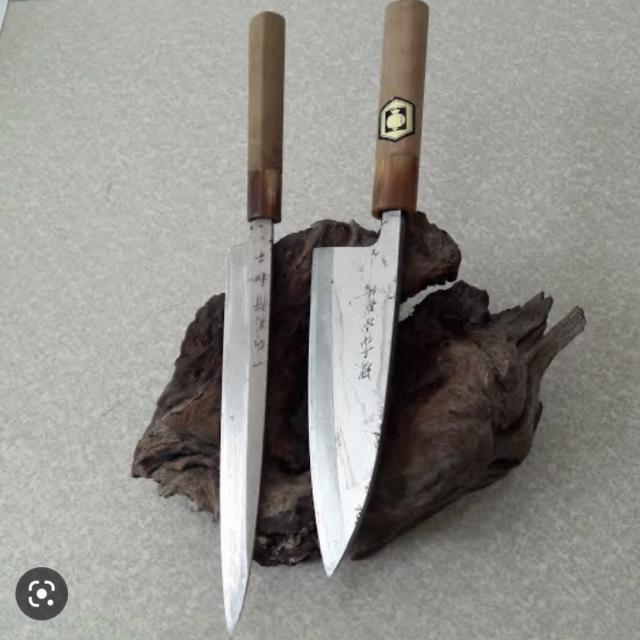Knife: (208, 0, 458, 640)
